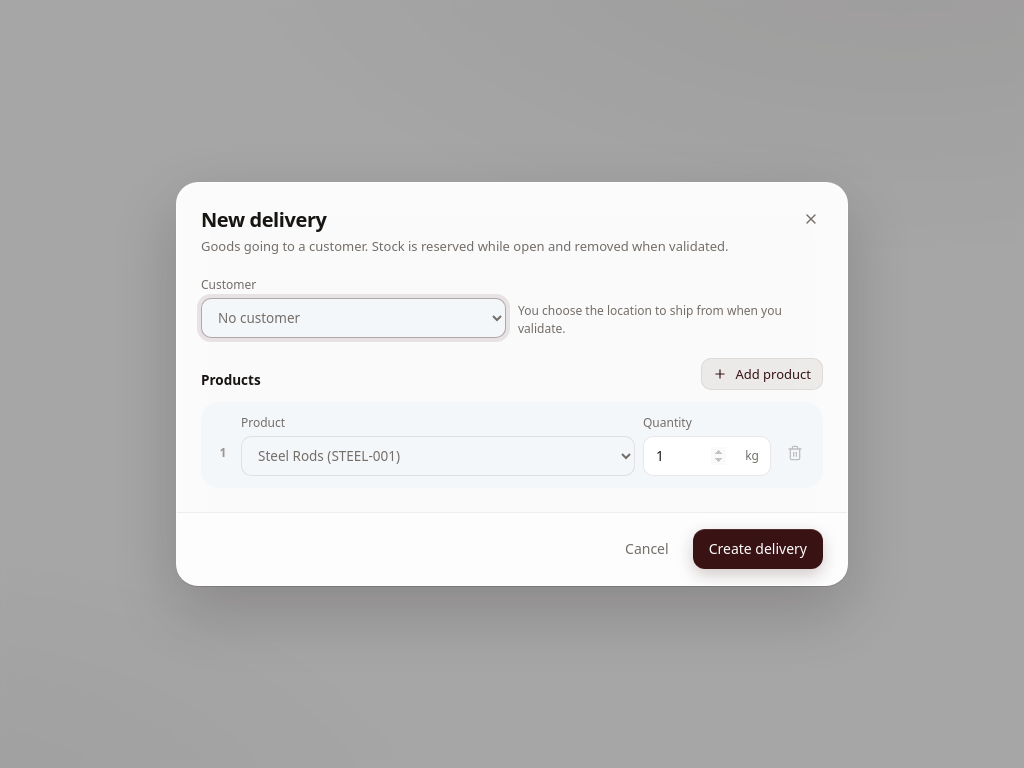
it: CreateDeliveryModal stock warning (#12) › marks a line asking for more than is free to use
Replace the text in the number field with "100": (707, 456) [643,436,771,476]
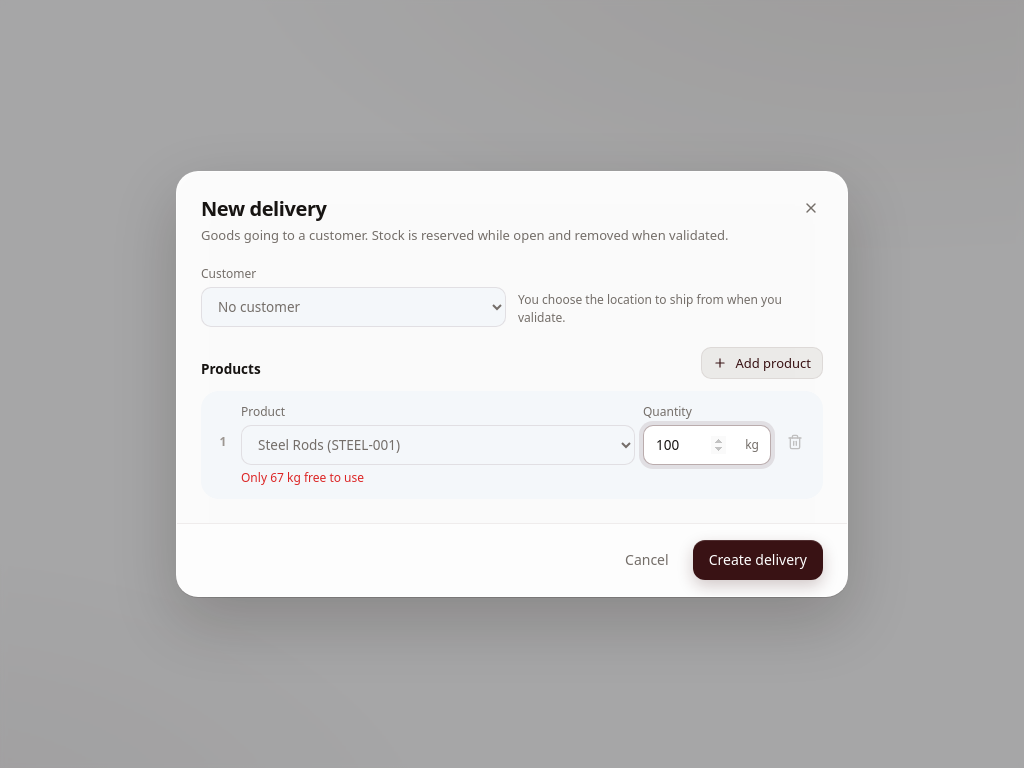
expect the text "Only 67 kg free to use" is shown: met, box [241,469,364,486]
